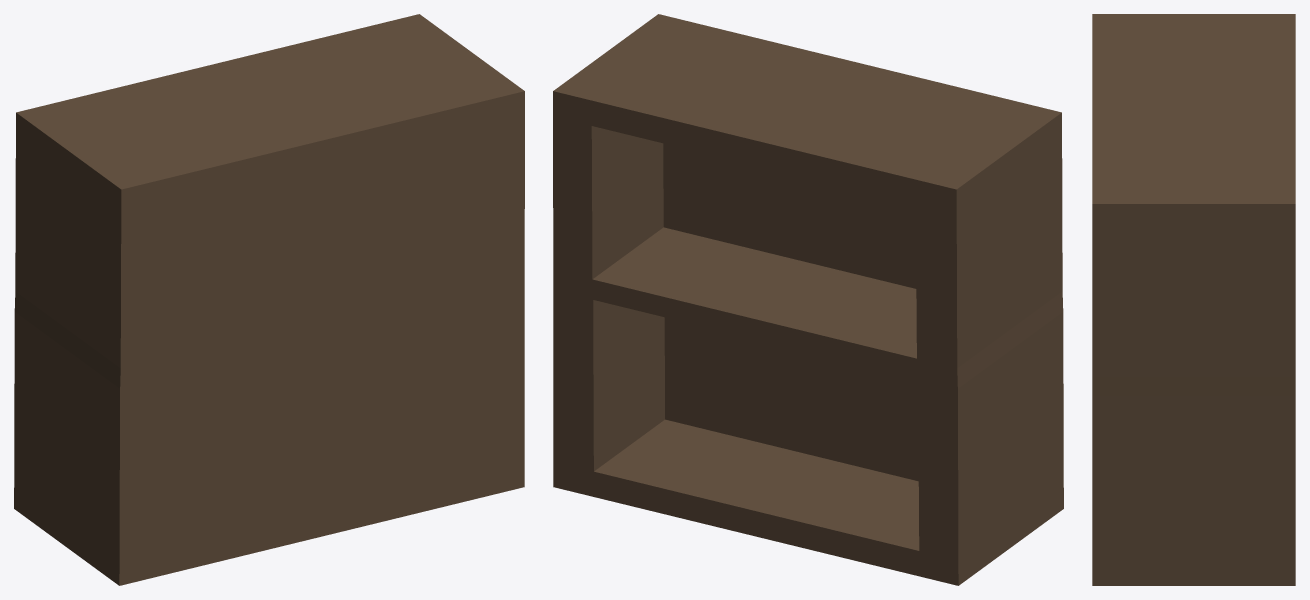
File: Estante Pequeño tipo 1.fbx
3 renders of one model, left to right at view 1: azimuth 30°, elevation 25°; view 2: azimuth 150°, elevation 25°; view 3: azimuth 270°, elevation 25°, orthographic. The views are drawn at different scales.
Visible parts, largest first — view 1: Estante_Pequeño_tipo_1; view 2: Estante_Pequeño_tipo_1; view 3: Estante_Pequeño_tipo_1.
Part boxes in pixels (x1,y1,x2,y2): Estante_Pequeño_tipo_1: [14, 14, 524, 585]; Estante_Pequeño_tipo_1: [553, 14, 1063, 585]; Estante_Pequeño_tipo_1: [1092, 14, 1295, 585].
Bounding box in the file's own units: 1.55 × 1.45 × 0.6991.
